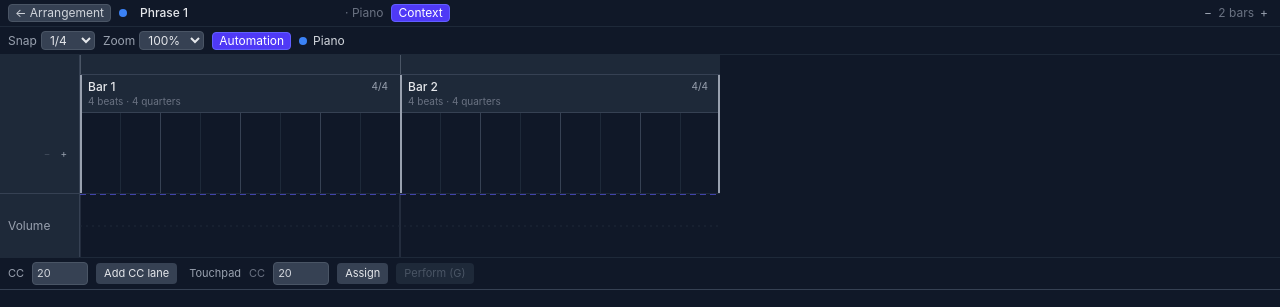
Scenario: ChordTimeline › phrase length › drops the last bar again
This screenshot has width=1280, height=307.
Click the button named "Remove bar": click(1208, 13) [1200,5,1216,21]
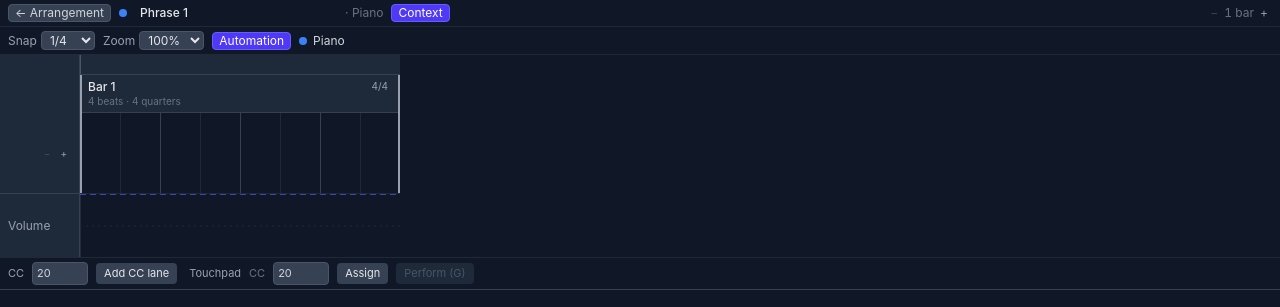
expect the text "Bar 2" is gone: met
